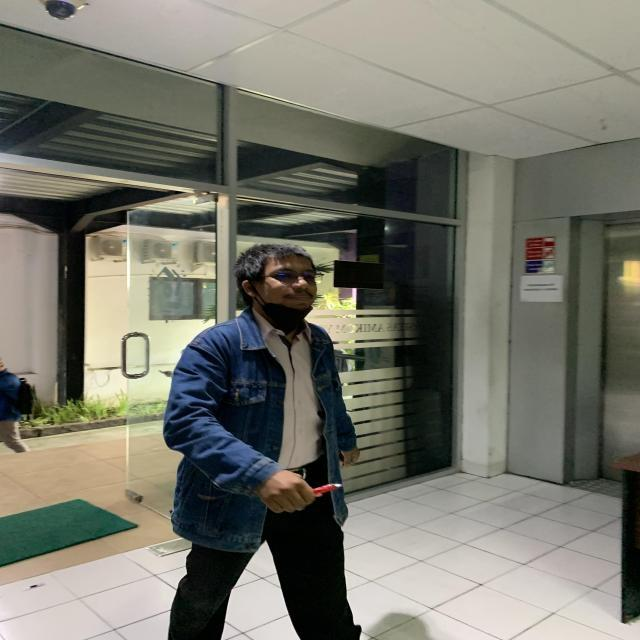hairnet: (232, 240, 334, 324)
